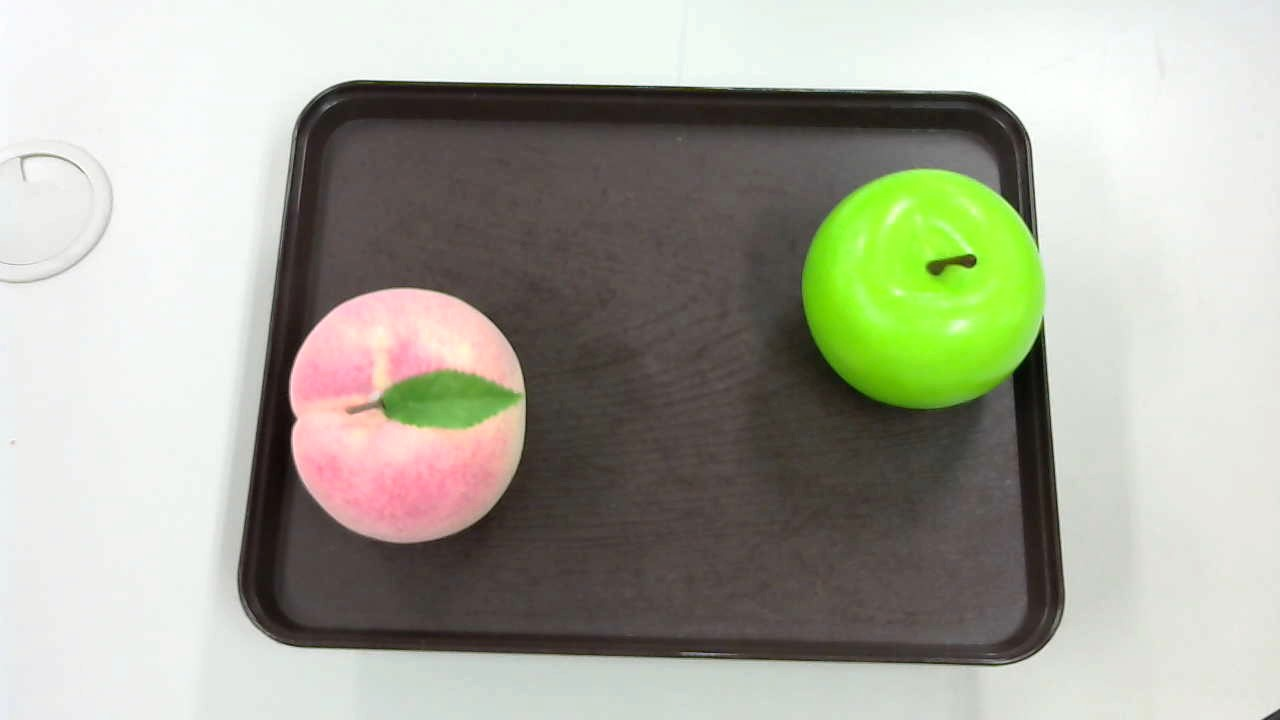green apple: (795, 167, 1047, 418)
peach: (284, 283, 523, 541)
